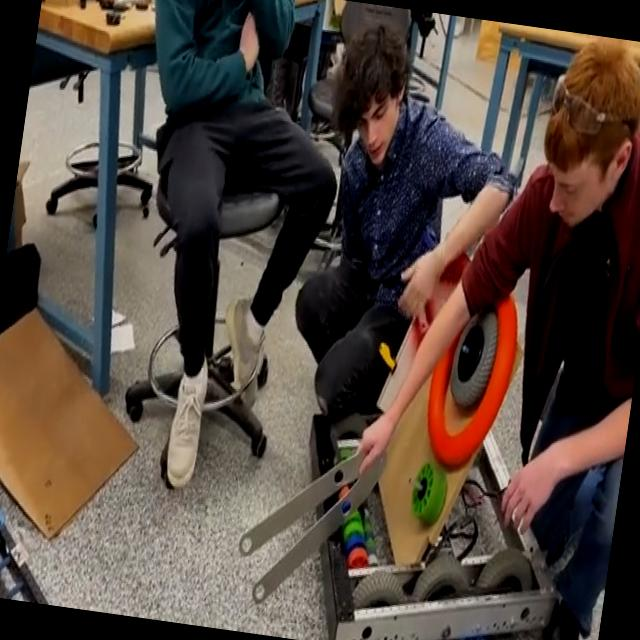note: (415, 273, 529, 479)
